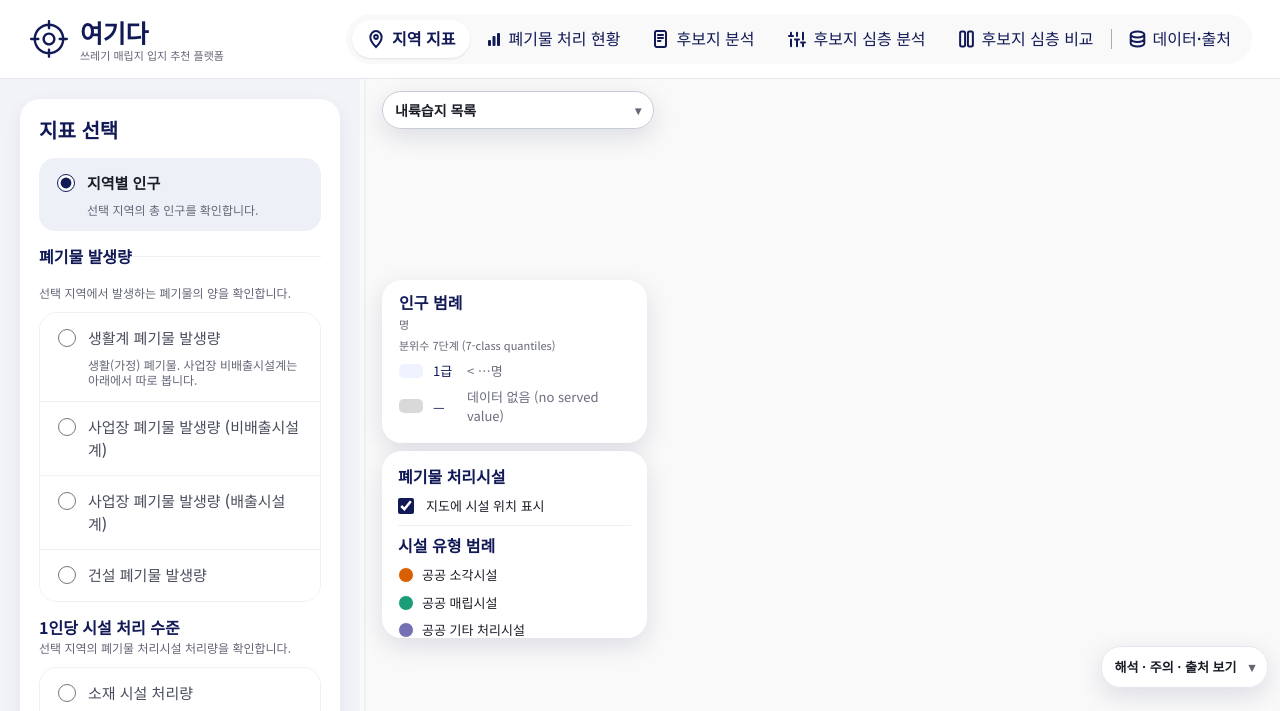
Test case: ② 계산 모델 가중치 설정 — what stays primary › keeps the heading, the bar, the four factor cards and their served weights
Click the button with test id "mode-suitability".
click(856, 39)  # box top-left (772, 20), bottom-right (941, 58)
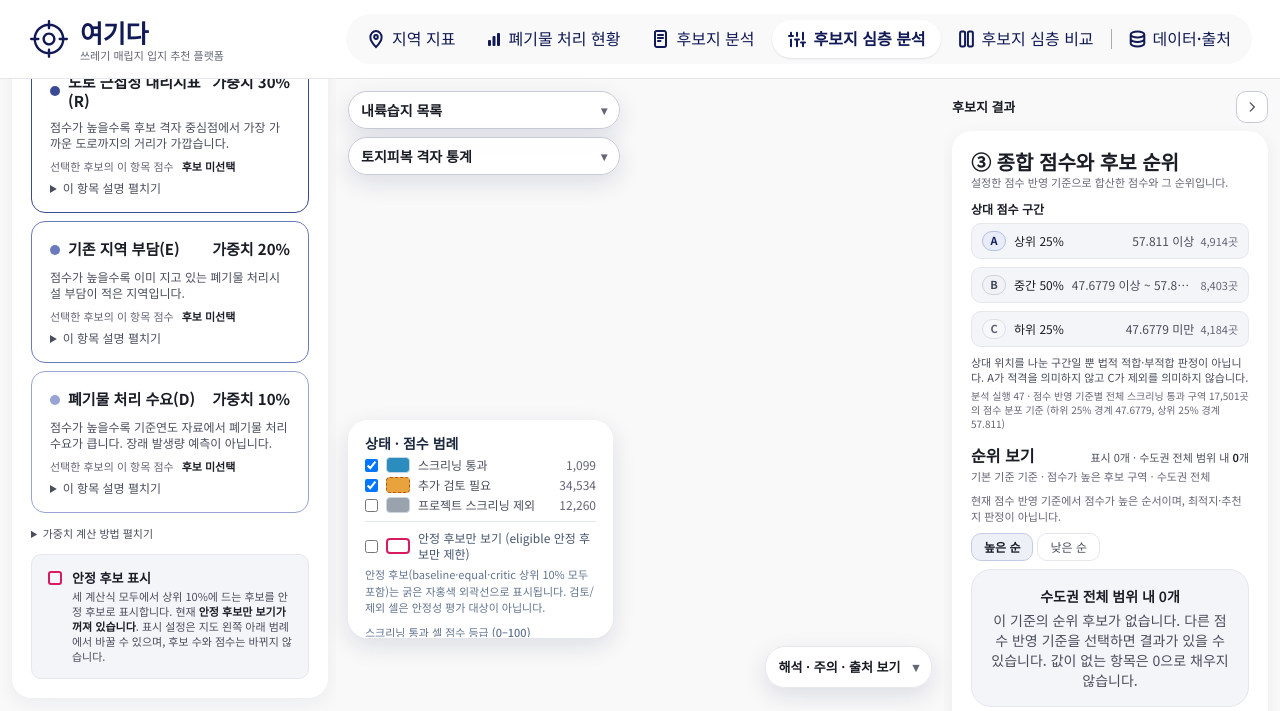
Expected: the text with test id "factor-weight-road" shows "30%", top-left (258, 79), bottom-right (290, 92)
Expected: the text with test id "factor-weight-equity" shows "20%", top-left (258, 238), bottom-right (290, 259)
Expected: the text with test id "factor-weight-demand" shows "10%", top-left (258, 388), bottom-right (290, 409)
